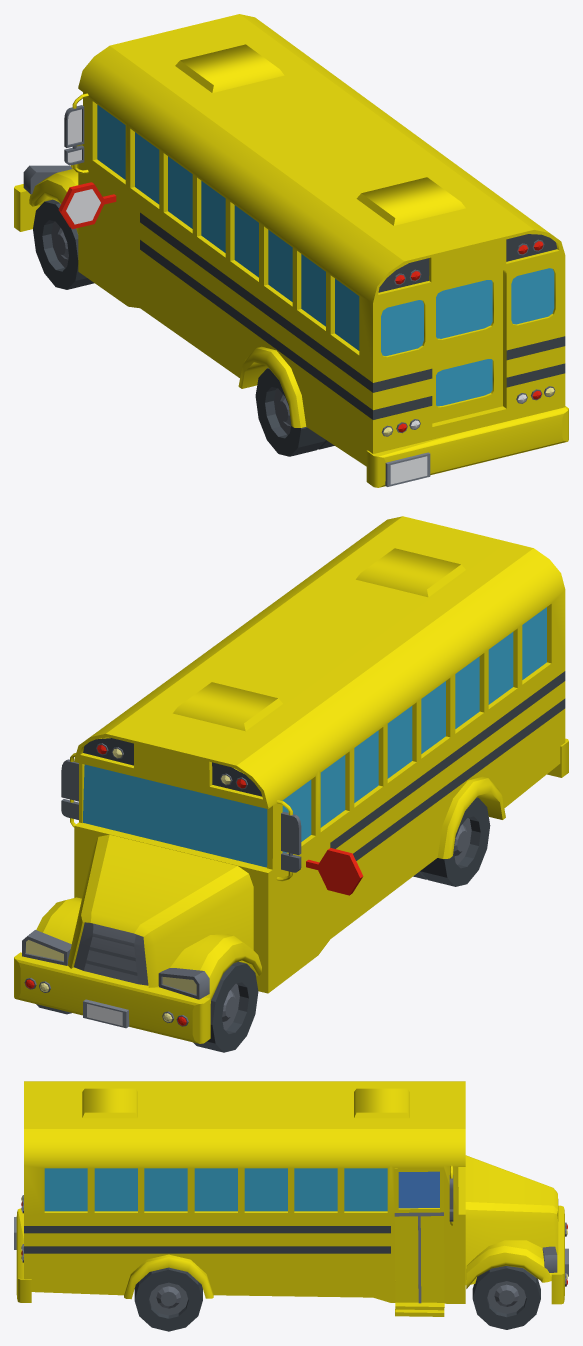
File: school_idle_bus_001.fbx
3 renders of one model, top to bottom at view 1: azimuth 30°, elevation 25°; view 2: azimuth 150°, elevation 25°; view 3: azimuth 270°, elevation 25°, orthographic. The views are drawn at different scales.
Parts seen in each view (by area): view 1: Cube.014, Cylinder.005, Cylinder.007, Cube.009; view 2: Cube.014, Cylinder.005, Cylinder.007, Cube.009; view 3: Cube.014, Cube.011, Cylinder.005, Cylinder.007.
Part boxes in pixels (<box>): Cube.014: <box>14,14,568,487</box>; Cylinder.005: <box>33,199,94,289</box>; Cylinder.007: <box>255,368,334,456</box>; Cube.009: <box>58,182,116,229</box>; Cube.014: <box>14,516,568,1043</box>; Cylinder.005: <box>36,961,258,1052</box>; Cylinder.007: <box>413,797,490,886</box>; Cube.009: <box>306,848,363,895</box>; Cube.014: <box>14,1081,568,1316</box>; Cube.011: <box>394,1168,444,1303</box>; Cylinder.005: <box>472,1266,540,1329</box>; Cylinder.007: <box>134,1267,202,1331</box>.
Size of the model in its own units: 613 by 570 by 1463.
